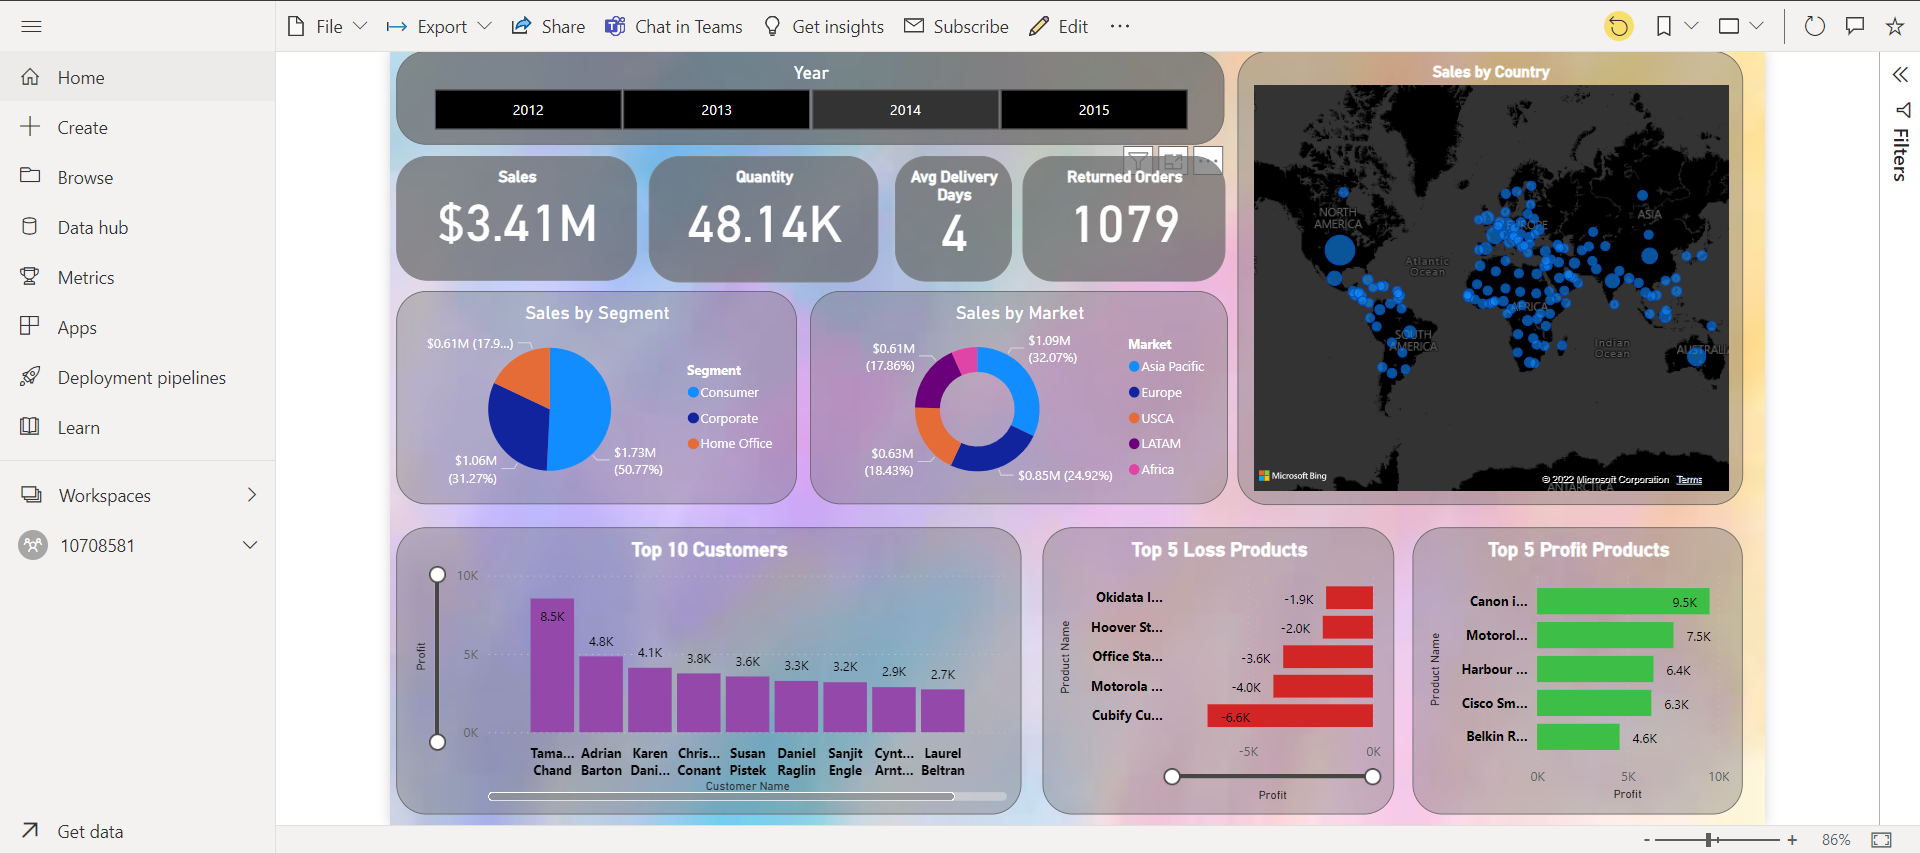

What the dashboard file says about the page in this screenshot:
{"tool":"powerbi","page":{"name":"Page 1","canvas":[1280,720],"ordinal":0},"visuals":[{"type":"card","title":"Sales","fields":{"Values":["Orders.Sales"]},"box":[6.2,97.5,223.8,116.2],"z":0},{"type":"card","title":"Quantity","fields":{"Values":["Orders.Quantity"]},"box":[241.2,97.5,213.8,117.5],"z":1000},{"type":"card","title":"Avg Delivery Days","fields":{"Values":["Orders.Delicery Days"]},"box":[469.3,97.7,108.6,117.1],"z":2000},{"type":"slicer","title":"Year","fields":{"Values":["Orders.Year"]},"box":[6.2,0,770,87.5],"z":3000},{"type":"card","title":"Returned Orders                            ","fields":{"Values":["Returns.Return orders"]},"box":[587.9,97.7,188.6,117.1],"z":4000},{"type":"map","fields":{"Category":["Orders.Country"],"Size":["Orders.Sales"]},"box":[788.8,0,470,422.5],"z":5000},{"type":"barChart","title":"Top 5 Profit Products","fields":{"Category":["Orders.Product Name"],"Y":["Orders.Profit"]},"box":[951.2,442.5,307.5,267.5],"z":6000},{"type":"barChart","title":"Top 5 Loss Products","fields":{"Category":["Orders.Product Name"],"Y":["Orders.Profit"]},"box":[607.5,442.5,327.5,267.5],"z":7000},{"type":"pieChart","fields":{"Category":["Orders.Segment"],"Y":["Orders.Sales"]},"box":[6.2,223.8,372.5,198.8],"z":8000},{"type":"donutChart","fields":{"Y":["Orders.Sales"],"Category":["Orders.Market"]},"box":[391.2,223.8,388.8,198.8],"z":9000},{"type":"columnChart","title":"Top 10 Customers","fields":{"Category":["Orders.Customer Name"],"Y":["Orders.Profit"]},"box":[6.2,442.5,581.2,267.5],"z":10000}]}

Visuals, with their boxes on the page's 1280x720 design canvas (x1, y1, x2, y2). These are canvas units, not pixel positions in the 1920x853 screenshot, which may show the page scaled, cropped or inside an application window:
"Sales" card: [x1=6, y1=98, x2=230, y2=214]
"Quantity" card: [x1=241, y1=98, x2=455, y2=215]
"Avg Delivery Days" card: [x1=469, y1=98, x2=578, y2=215]
"Year" slicer: [x1=6, y1=0, x2=776, y2=88]
"Returned Orders                            " card: [x1=588, y1=98, x2=776, y2=215]
map - Orders.Country x Orders.Sales: [x1=789, y1=0, x2=1259, y2=422]
"Top 5 Profit Products" barChart: [x1=951, y1=442, x2=1259, y2=710]
"Top 5 Loss Products" barChart: [x1=608, y1=442, x2=935, y2=710]
pieChart - Orders.Segment x Orders.Sales: [x1=6, y1=224, x2=379, y2=423]
donutChart - Orders.Sales x Orders.Market: [x1=391, y1=224, x2=780, y2=423]
"Top 10 Customers" columnChart: [x1=6, y1=442, x2=587, y2=710]
